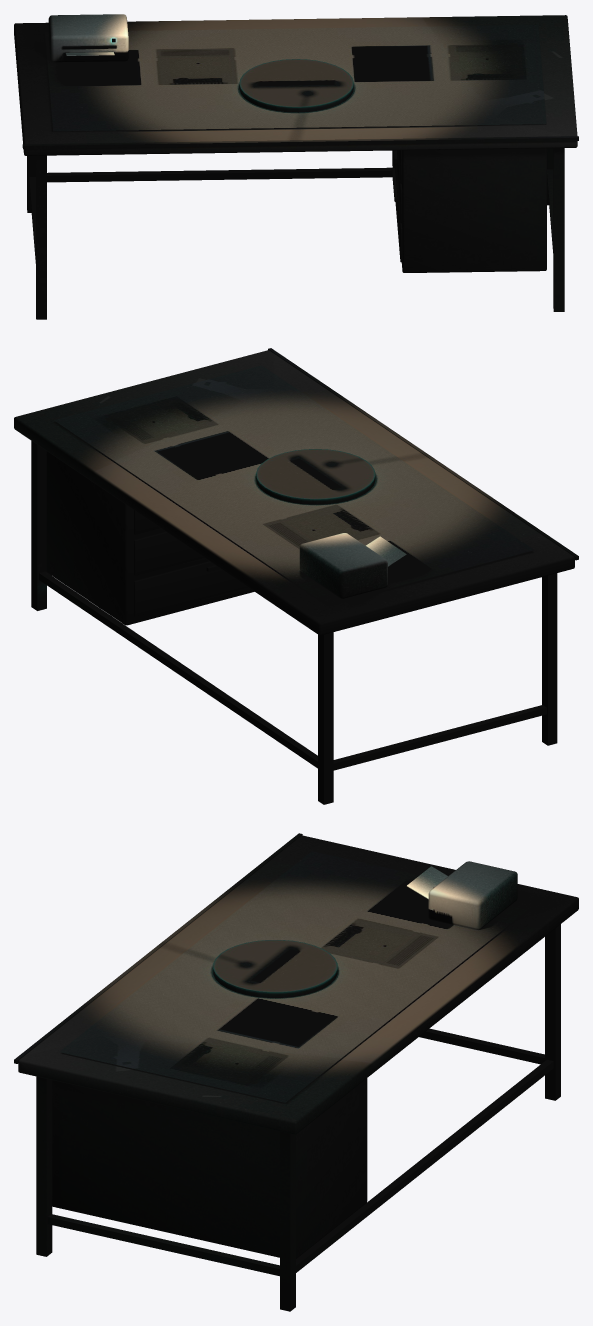
Rendered from bench.glb.
3 views of the same model, one above another, from view 1: azimuth 30°, elevation 25°; view 2: azimuth 150°, elevation 25°; view 3: azimuth 270°, elevation 25° (orthographic). The views are drawn at different scales.
Visible parts, largest first — view 1: baked_bench; view 2: baked_bench; view 3: baked_bench.
Part boxes in pixels (left/top/right/bottom): baked_bench: left=14, top=14, right=578, bottom=319; baked_bench: left=14, top=348, right=578, bottom=804; baked_bench: left=14, top=833, right=578, bottom=1311.
Bounding box in the file's own units: 10.41 × 3.81 × 8.6.
1 material, 1 textured.
